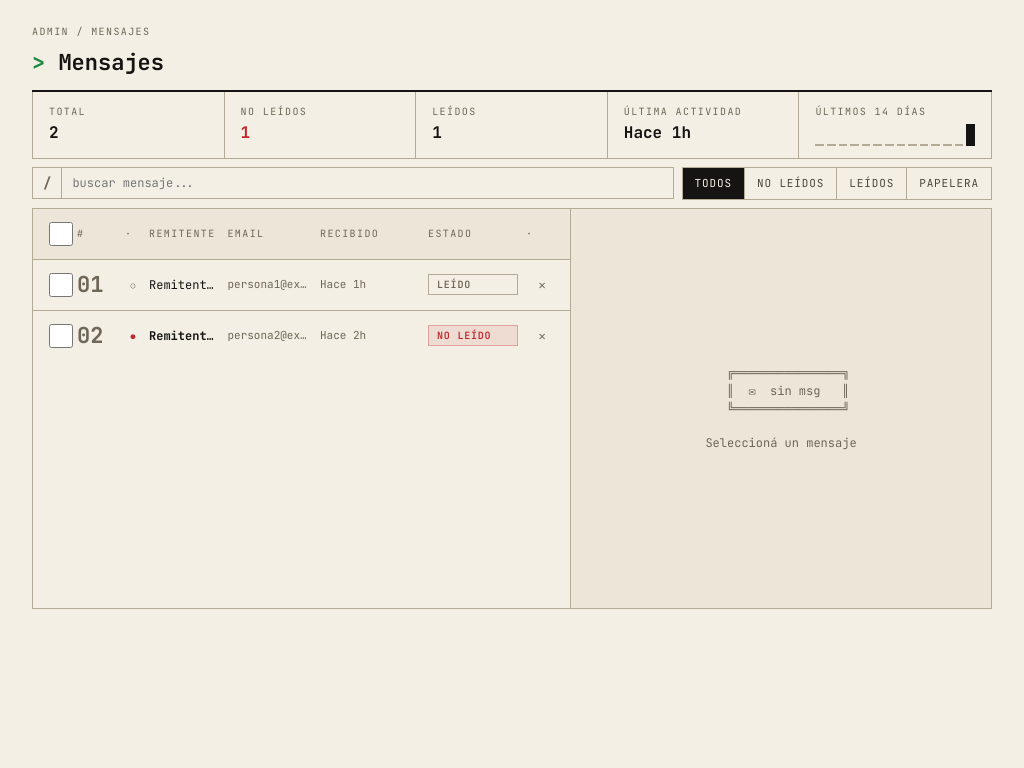
it: MessagesPage › bulk delete: el checkbox del encabezado selecciona y deselecciona todos los visibles
Click the checkbox named "Seleccionar todos" at (61, 234), box [49,222,73,246]
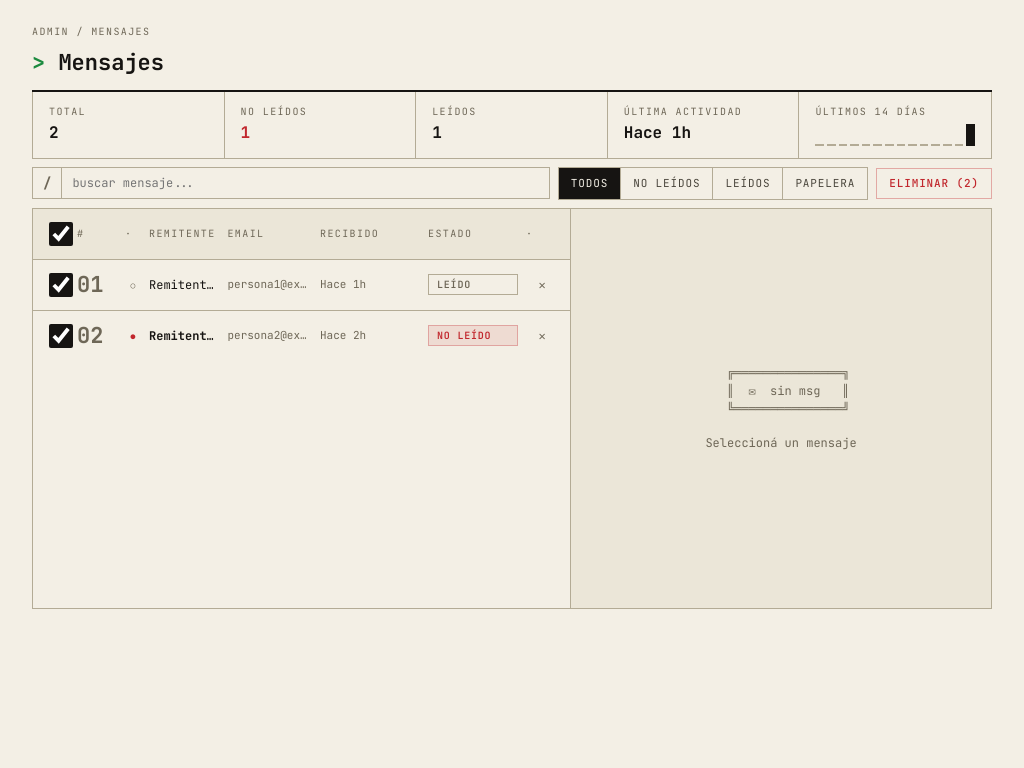
Expected: the button "Eliminar (2)" is shown, [876,168,992,199]
Click the checkbox named "Seleccionar todos" at (61, 234), box [49,222,73,246]
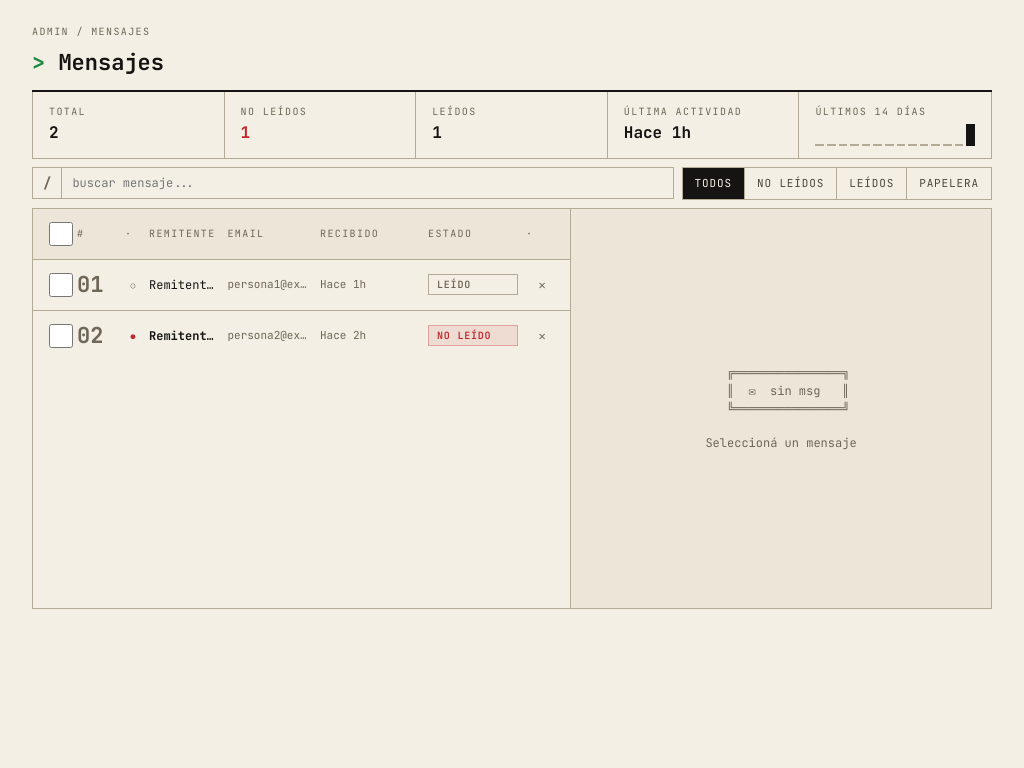
Expected: the button "Eliminar (2)" is gone
